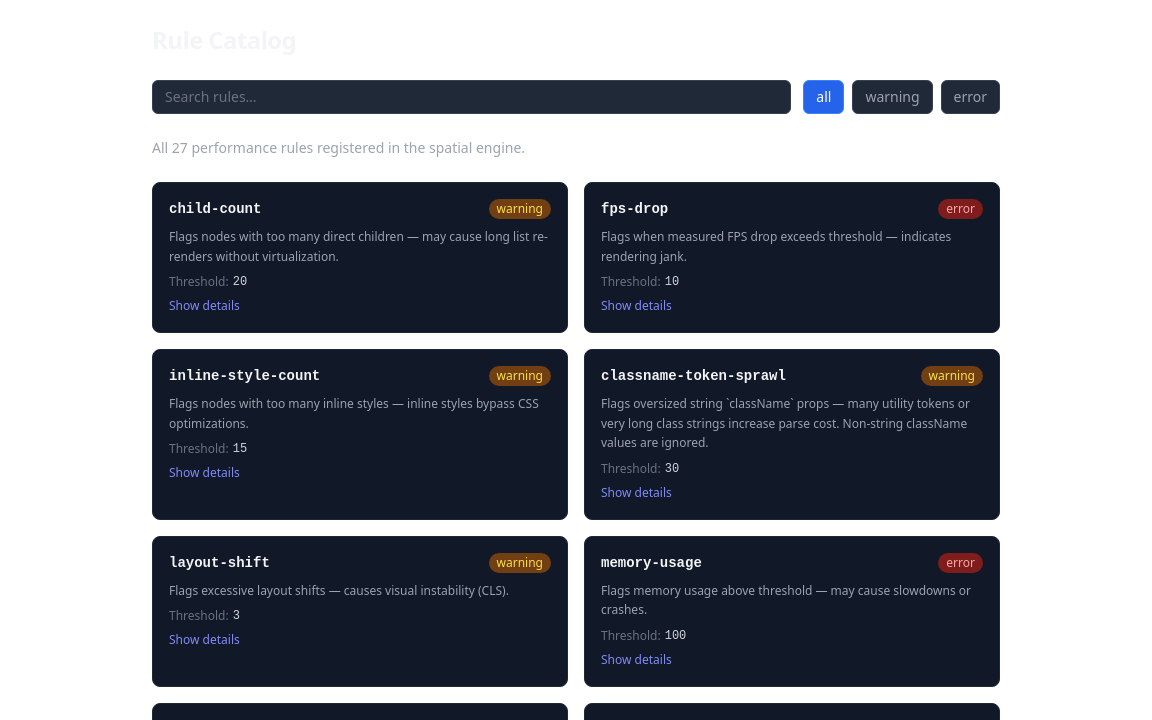
Test: D10: Rule catalog search › displays filtered count when search is active
The image size is (1152, 720).
Step 1. Type "count" into the field labelled "Search rules…" → (472, 97), box [152,80,791,114]
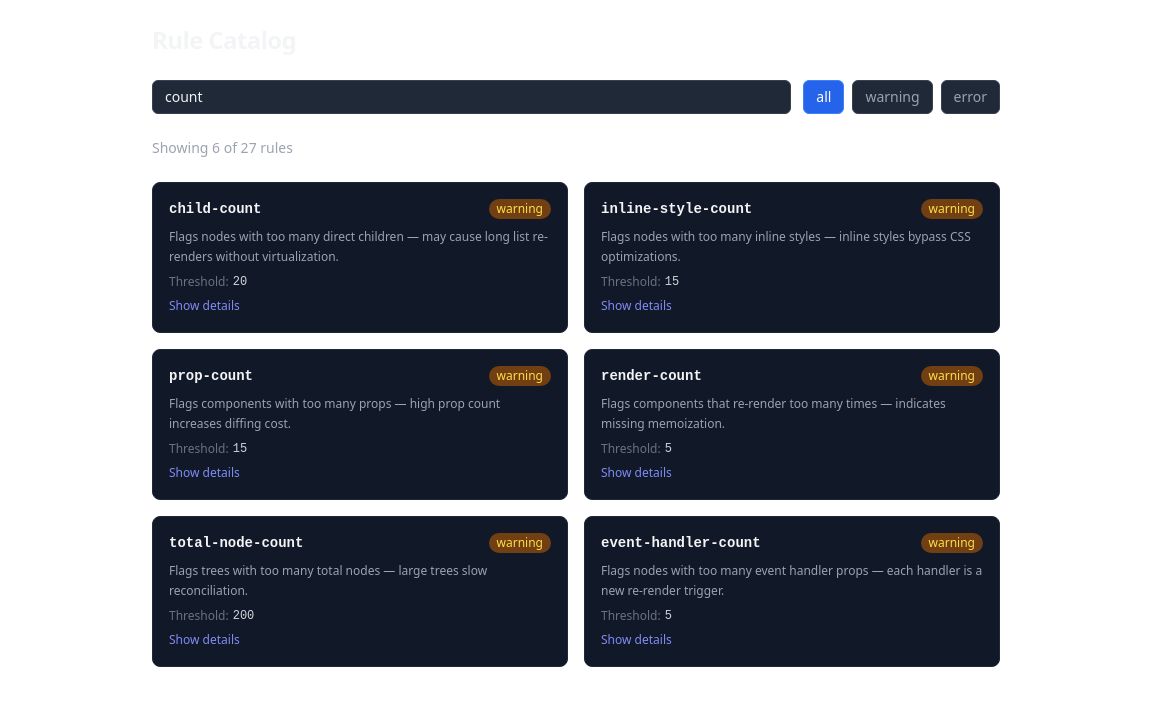
Result: the text "Showing 6 of 27 rules" is shown at [152,138,293,157]
